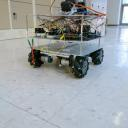cart: (25, 13, 107, 77)
